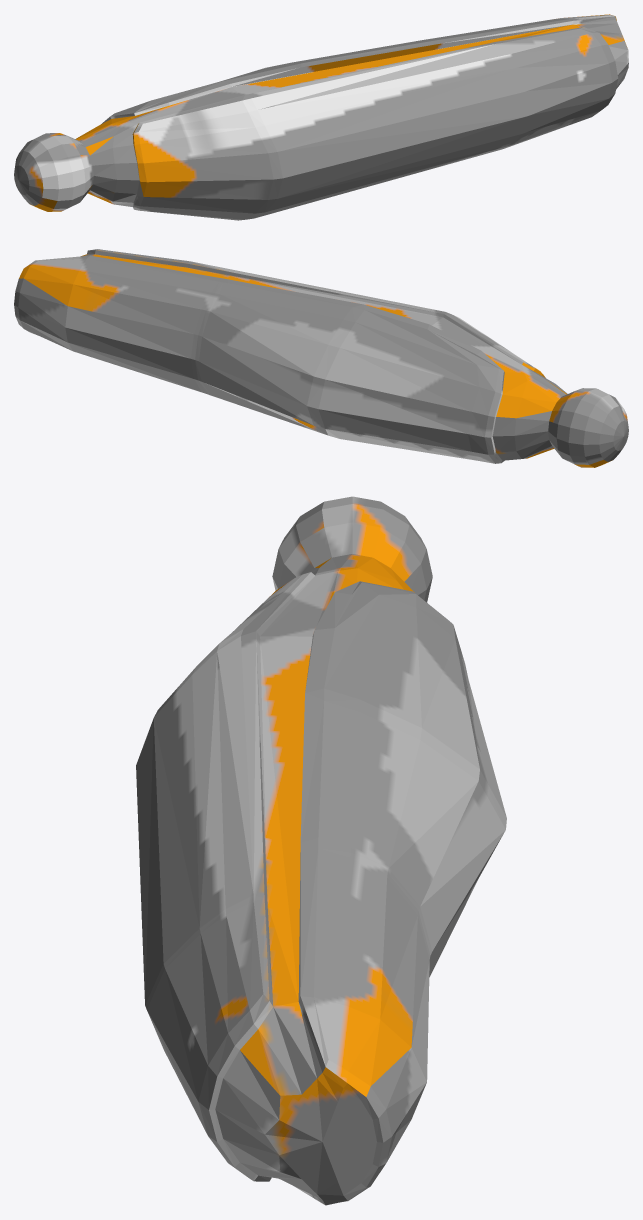
Rendered from LeftUpperArm.obj.
3 views of the same model, one above another, from view 1: azimuth 30°, elevation 25°; view 2: azimuth 150°, elevation 25°; view 3: azimuth 270°, elevation 25° (orthographic). The views are drawn at different scales.
Visible parts, largest first — view 1: LeftUpperArm_Mesh.465; view 2: LeftUpperArm_Mesh.465; view 3: LeftUpperArm_Mesh.465.
Boxes of the visible parts, box(x1,y1,x2,y2) form: LeftUpperArm_Mesh.465: box(14, 14, 628, 220); LeftUpperArm_Mesh.465: box(14, 249, 628, 467); LeftUpperArm_Mesh.465: box(136, 496, 506, 1205).
Bounding box in the file's own units: 0.3406 × 0.0713 × 0.0918.
Materials: 1 (1 with a texture image).
